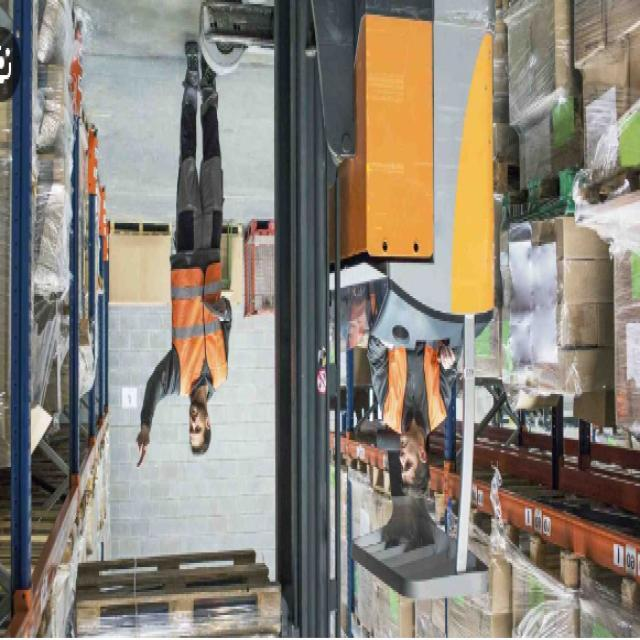boots: (181, 34, 228, 96)
vest: (379, 296, 449, 438), (167, 249, 229, 405)
